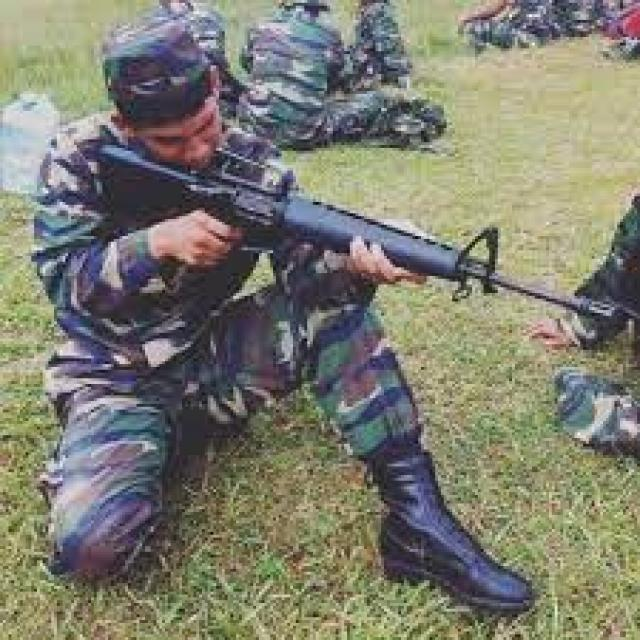m16: (68, 124, 634, 342)
